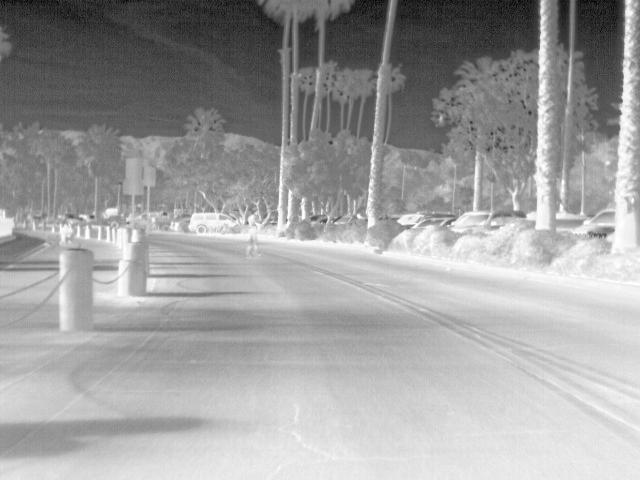car: (445, 211, 497, 231), (577, 209, 616, 233), (188, 211, 232, 232), (488, 214, 533, 230), (416, 213, 450, 228), (556, 214, 583, 232), (396, 213, 419, 227), (171, 216, 187, 232), (309, 213, 327, 225), (333, 214, 350, 226), (68, 214, 85, 225)
person: (243, 212, 262, 259)
